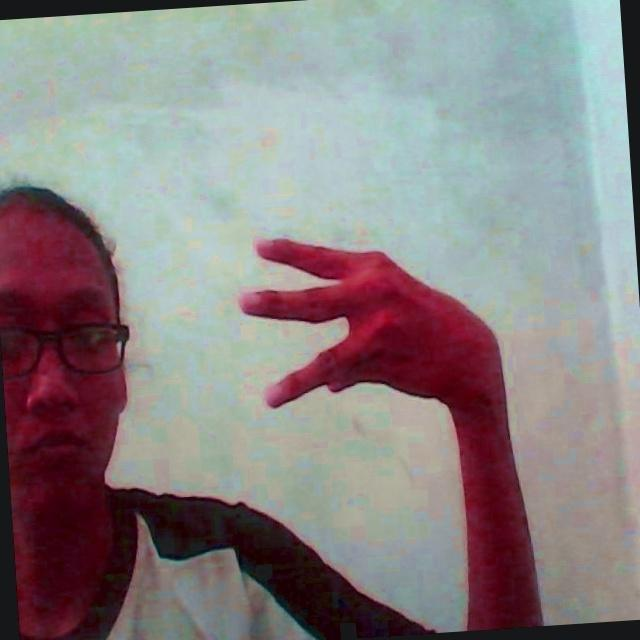E: (234, 216, 529, 422)
